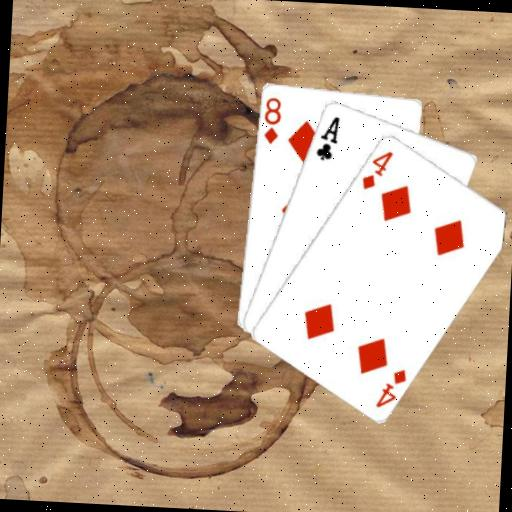4D: (358, 146, 395, 192), (373, 364, 409, 411)
8D: (260, 93, 284, 146)
AC: (312, 112, 342, 162)
